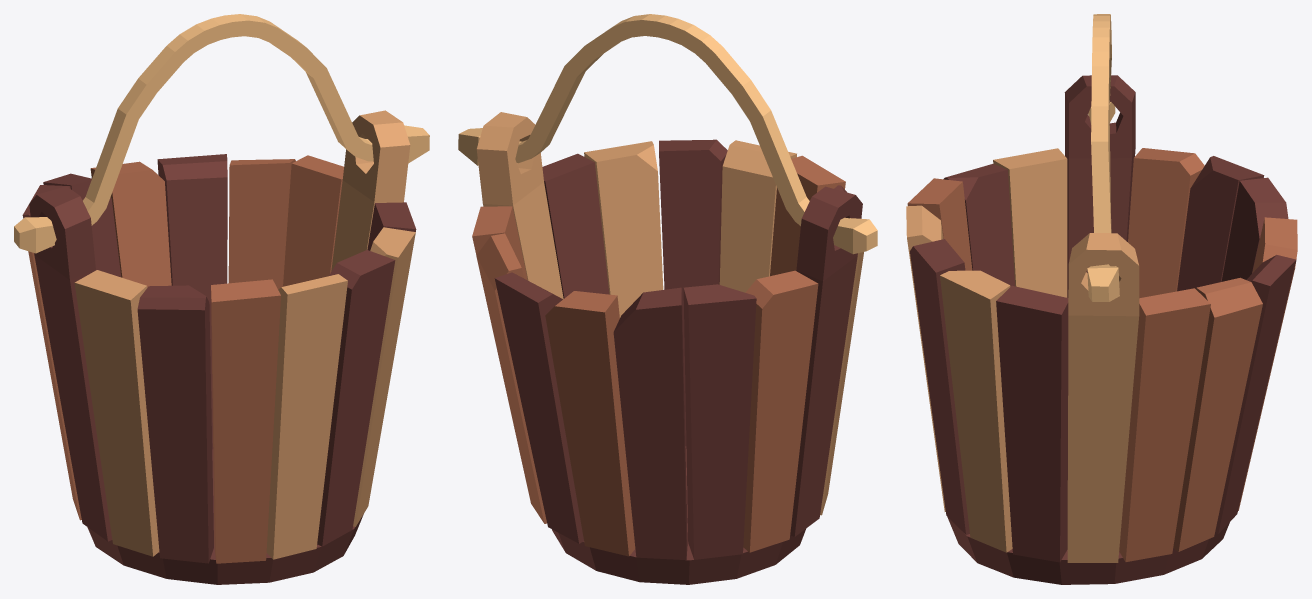
File: Bucket 01.fbx
3 views of the same model, side by side, from view 1: azimuth 30°, elevation 25°; view 2: azimuth 150°, elevation 25°; view 3: azimuth 270°, elevation 25° (orthographic).
Parts seen in each view (by area): view 1: Bucket 01, Bucket 01 Handle; view 2: Bucket 01, Bucket 01 Handle; view 3: Bucket 01, Bucket 01 Handle.
Part boxes in pixels (<box>): Bucket 01: <box>22,110,416,584</box>; Bucket 01 Handle: <box>14,14,429,253</box>; Bucket 01: <box>472,112,863,584</box>; Bucket 01 Handle: <box>458,14,877,254</box>; Bucket 01: <box>906,75,1297,584</box>; Bucket 01 Handle: <box>1087,14,1119,301</box>.
Size of the model in its own units: 50.98 by 60.08 by 41.84.
